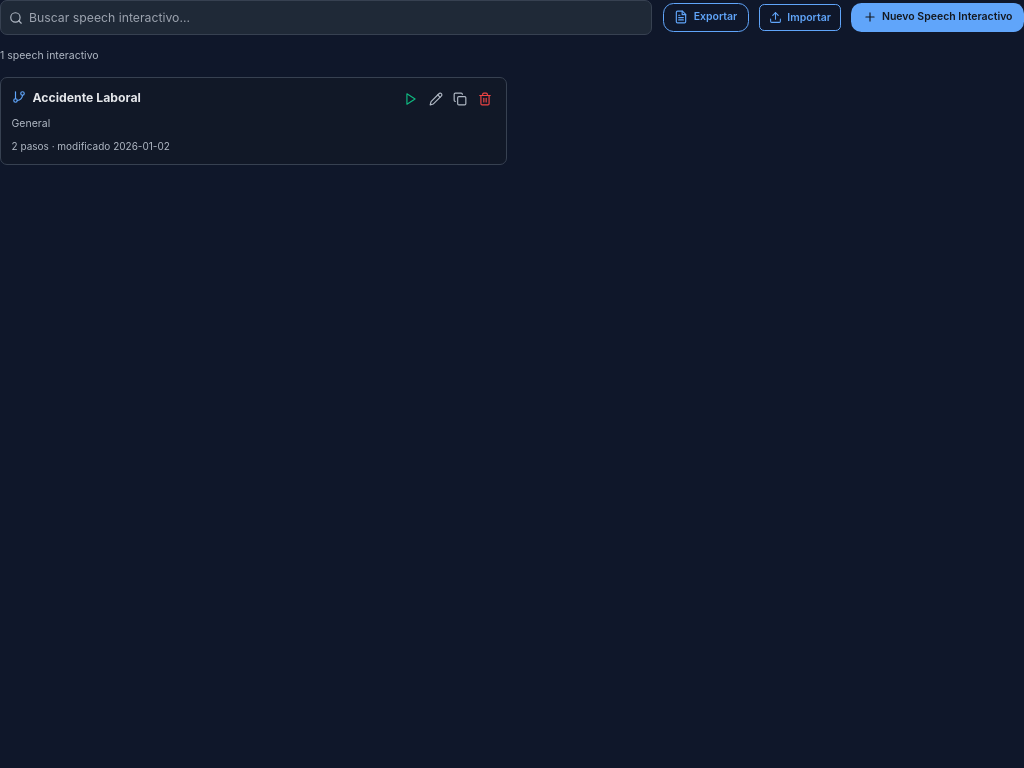
InteractivosView (ejecución) › ejecuta el recorrido con Atrás, Reiniciar y fin
Click the button named "Ejecutar speech interactivo" at (411, 99), box x1=401 y1=88 x2=422 y2=110
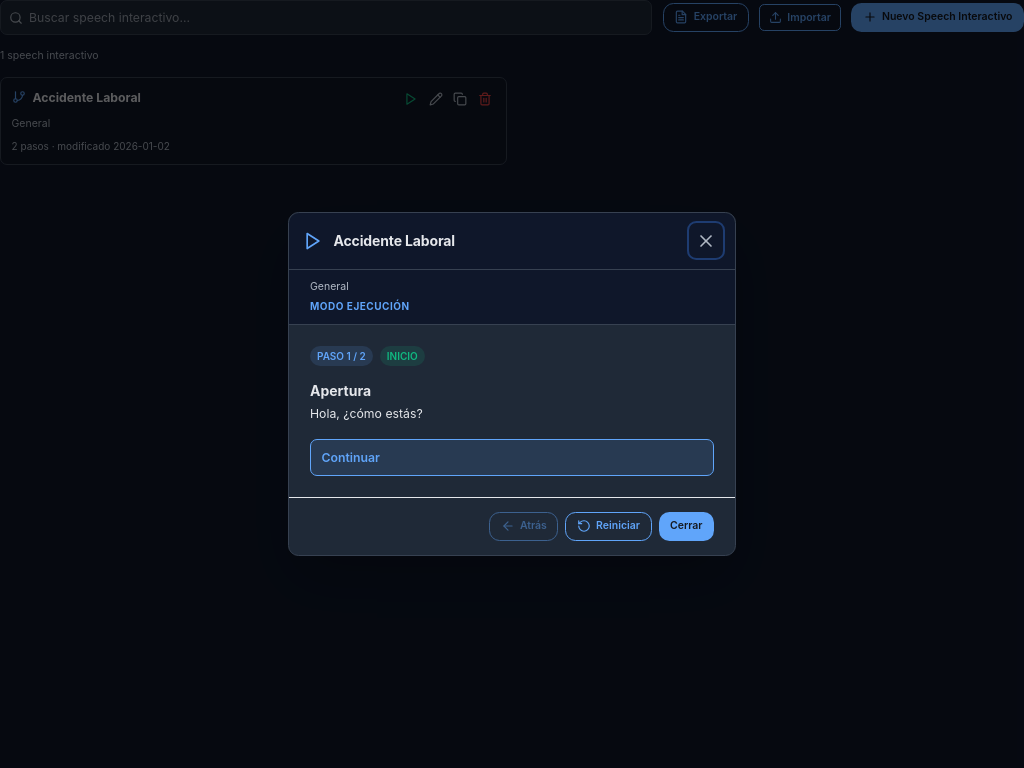
Result: the text "PASO 1 / 2" is shown at x1=310 y1=346 x2=373 y2=366
Result: the button "Atrás" is disabled at x1=489 y1=512 x2=558 y2=541
Click the button "Continuar" at (351, 457), box x1=310 y1=439 x2=714 y2=476
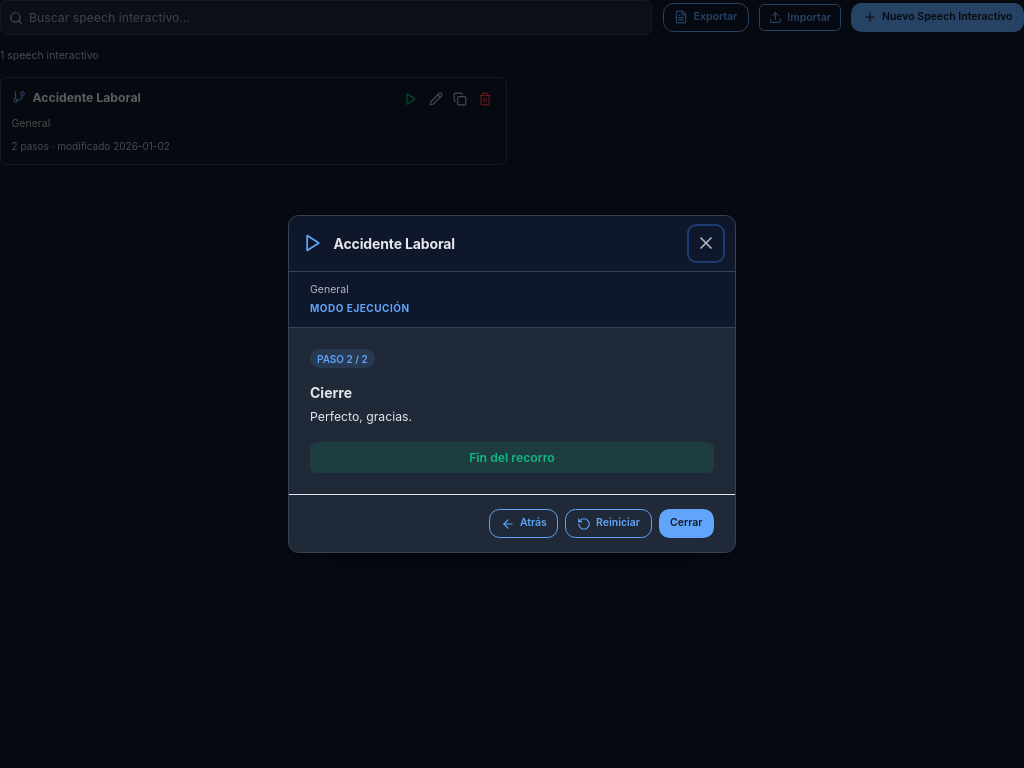
Result: the text "PASO 2 / 2" is shown at x1=310 y1=349 x2=375 y2=368
Result: the text "Fin del recorro" is shown at x1=310 y1=442 x2=714 y2=473
Click the button "Atrás" at (524, 524), box x1=489 y1=509 x2=558 y2=538
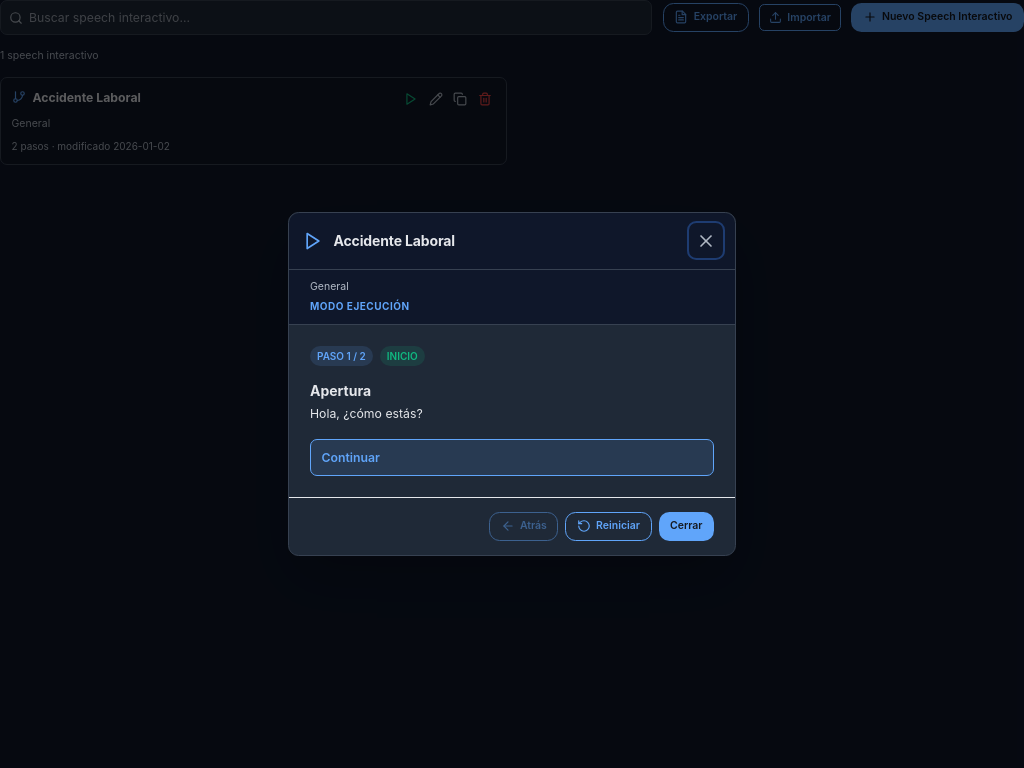
Result: the text "PASO 1 / 2" is shown at x1=310 y1=346 x2=373 y2=366
Click the button "Continuar" at (351, 457), box x1=310 y1=439 x2=714 y2=476
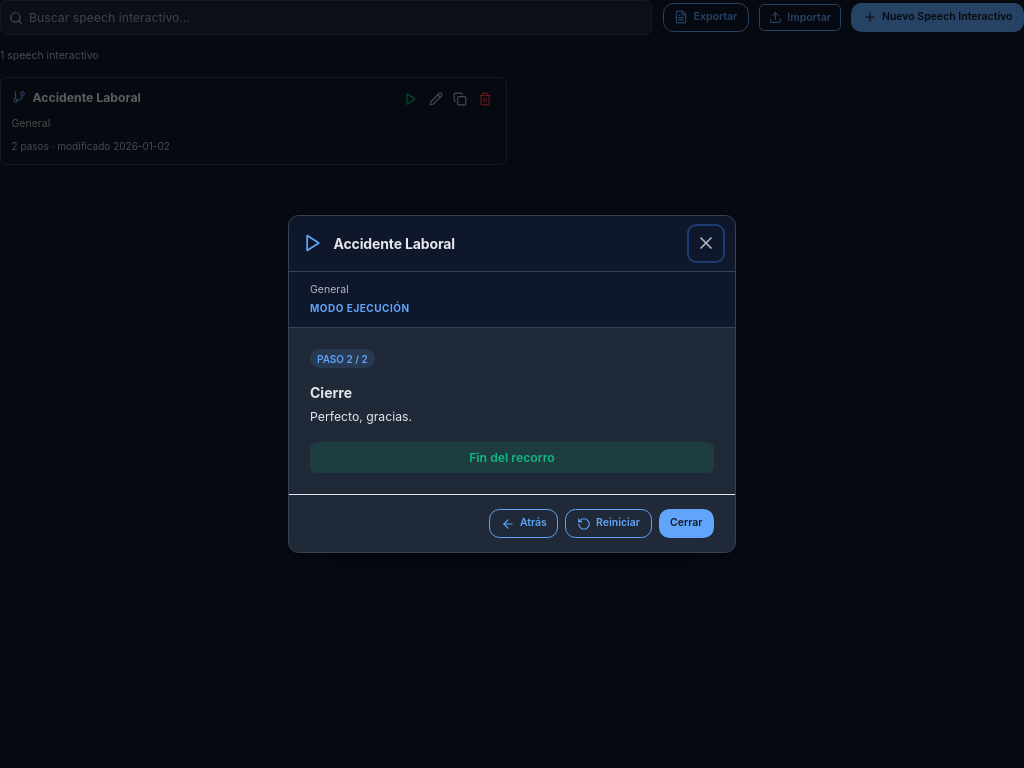
Click the button "Reiniciar" at (608, 524), box x1=565 y1=509 x2=652 y2=538
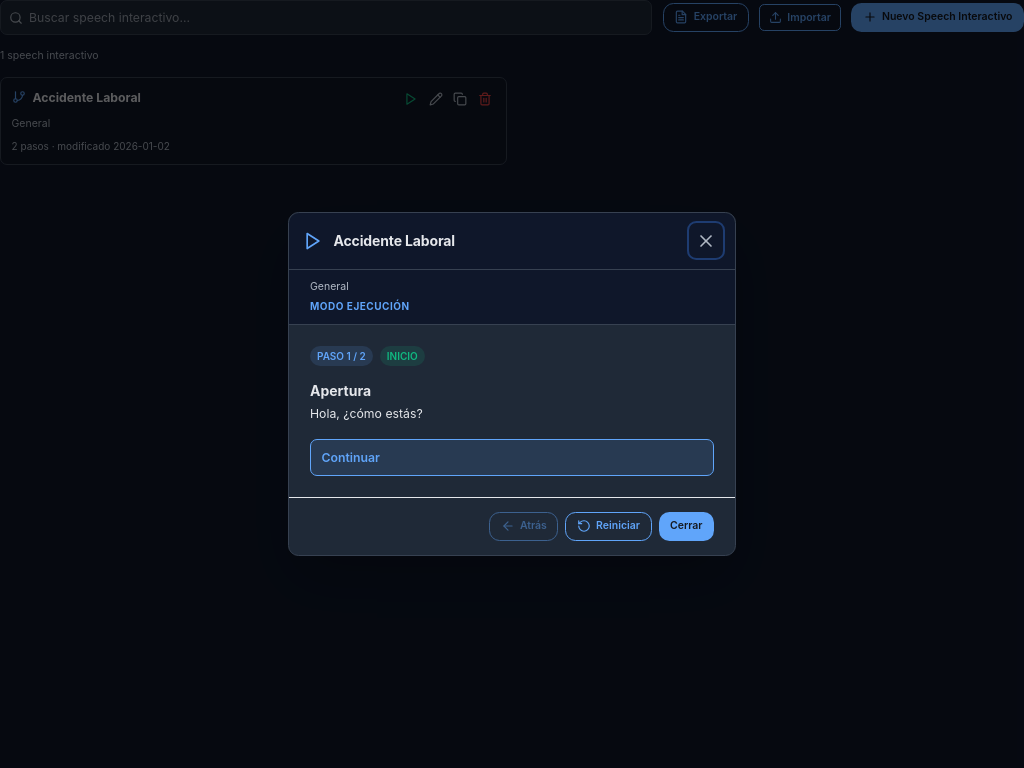
Result: the text "PASO 1 / 2" is shown at x1=310 y1=346 x2=373 y2=366
Result: the button "Atrás" is disabled at x1=489 y1=512 x2=558 y2=541
Click the button "Cerrar" at (686, 526), box x1=658 y1=512 x2=714 y2=541
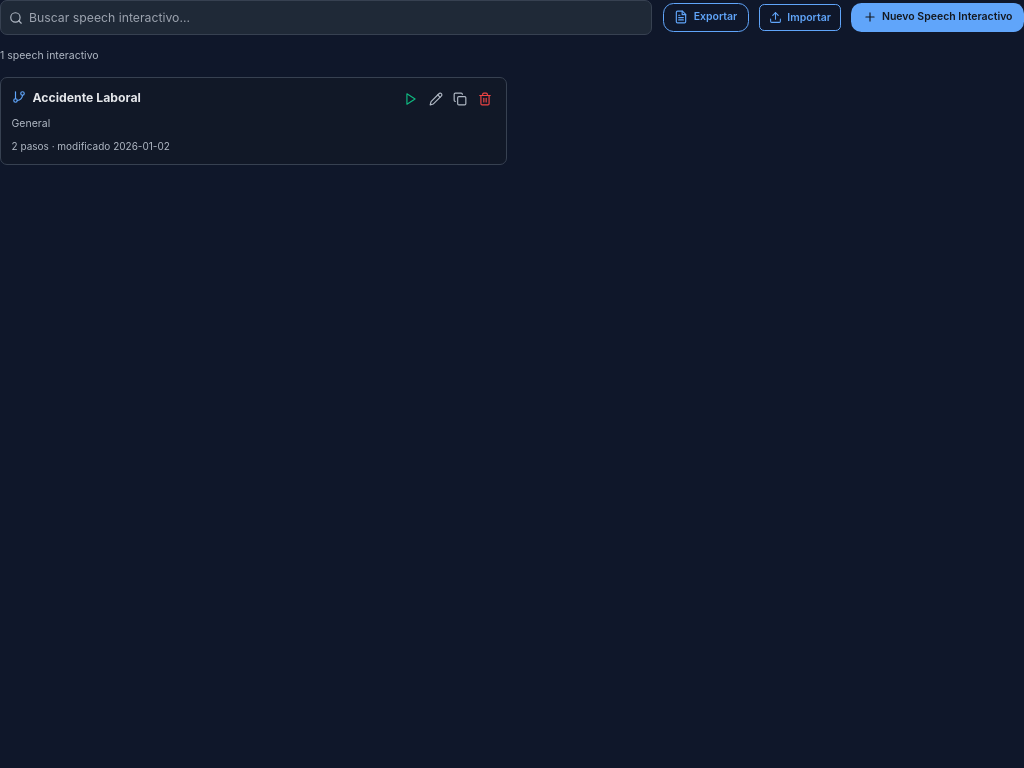
Result: the text "PASO 1 / 2" is gone
